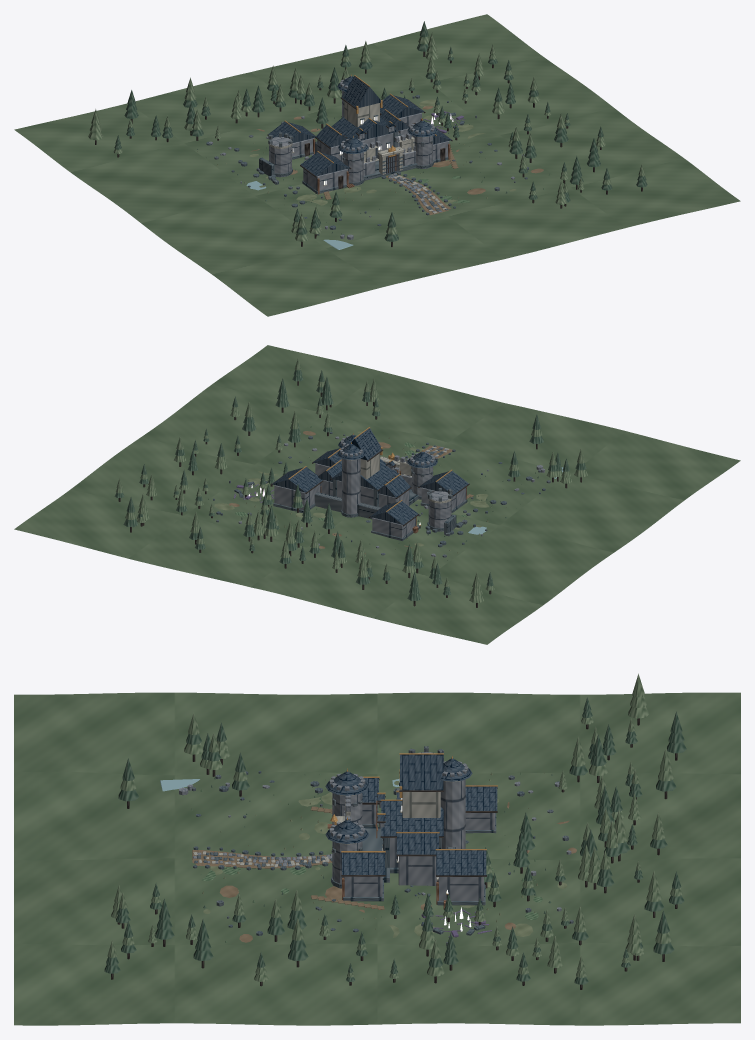
The model's file is CC0_Valoria_Stage5.glb.
The picture shows the model from 3 angles, top to bottom: view 1: azimuth 30°, elevation 25°; view 2: azimuth 150°, elevation 25°; view 3: azimuth 270°, elevation 25°; orthographic projection. The views are drawn at different scales.
Parts seen in each view (by area): view 1: worn Valoria terrain mesh, great hall | pitched slate, upper keep | pitched slate, watchtower core.005, Timber workshop | pitched slate, Barracks lodge | pitched slate, Timber workshop | stone and wood, raised keep, Stone quarry | pitched slate, watchtower core.003, watchtower core.002; view 2: worn Valoria terrain mesh, watchtower core.004, Barracks lodge | pitched slate, watchtower core.005, Stone quarry | pitched slate, Timber workshop | pitched slate, old wall | rear foot, Barracks lodge | stone and wood, great hall | pitched slate, Stone quarry | stone and wood, upper keep | pitched slate; view 3: worn Valoria terrain mesh, watchtower core.004, upper keep | pitched slate, great hall | pitched slate, Barracks lodge | pitched slate, side annex.001, Barracks lodge | stone and wood, raised keep, Granary | pitched slate, side annex | pitched slate.001, Stone quarry | pitched slate, Granary | stone and wood (+3 smaller).
Boxes of the visible parts, x1,y1,x2,y2 form: worn Valoria terrain mesh: (14, 14, 740, 316); great hall | pitched slate: (331, 116, 398, 140); upper keep | pitched slate: (341, 76, 380, 108); watchtower core.005: (269, 137, 291, 177); Timber workshop | pitched slate: (301, 152, 349, 176); Barracks lodge | pitched slate: (380, 95, 424, 118); Timber workshop | stone and wood: (303, 168, 347, 190); raised keep: (344, 101, 379, 127); Stone quarry | pitched slate: (268, 121, 315, 142); watchtower core.003: (412, 135, 432, 168); watchtower core.002: (343, 152, 363, 185); worn Valoria terrain mesh: (14, 345, 740, 644); watchtower core.004: (342, 458, 360, 514); Barracks lodge | pitched slate: (272, 467, 322, 492); watchtower core.005: (428, 491, 451, 531); Stone quarry | pitched slate: (369, 501, 418, 524); Timber workshop | pitched slate: (419, 471, 468, 494); old wall | rear foot: (314, 492, 380, 519); Barracks lodge | stone and wood: (274, 484, 320, 509); great hall | pitched slate: (331, 458, 398, 489); Stone quarry | stone and wood: (372, 517, 415, 537); upper keep | pitched slate: (350, 428, 382, 460); worn Valoria terrain mesh: (14, 692, 740, 1025); watchtower core.004: (440, 779, 465, 848); upper keep | pitched slate: (400, 754, 443, 790); great hall | pitched slate: (381, 801, 443, 836); Barracks lodge | pitched slate: (436, 850, 486, 875); side annex.001: (398, 856, 436, 885); Barracks lodge | stone and wood: (438, 877, 483, 900); raised keep: (402, 792, 440, 817); Granary | pitched slate: (342, 852, 384, 874); side annex | pitched slate.001: (397, 833, 438, 854); Stone quarry | pitched slate: (465, 786, 497, 810); Granary | stone and wood: (344, 876, 382, 896).
Size of the model in its own units: 112 by 17.17 by 104.
Materials: 30 (24 with a texture image).
